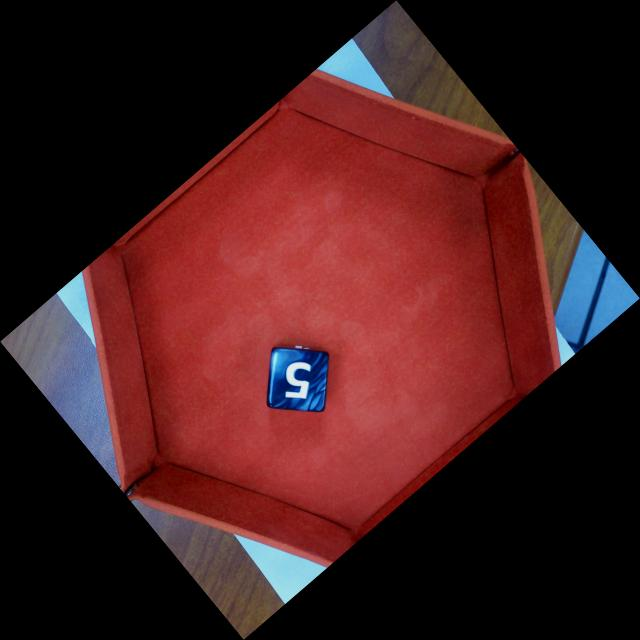dice: (269, 352, 329, 409)
